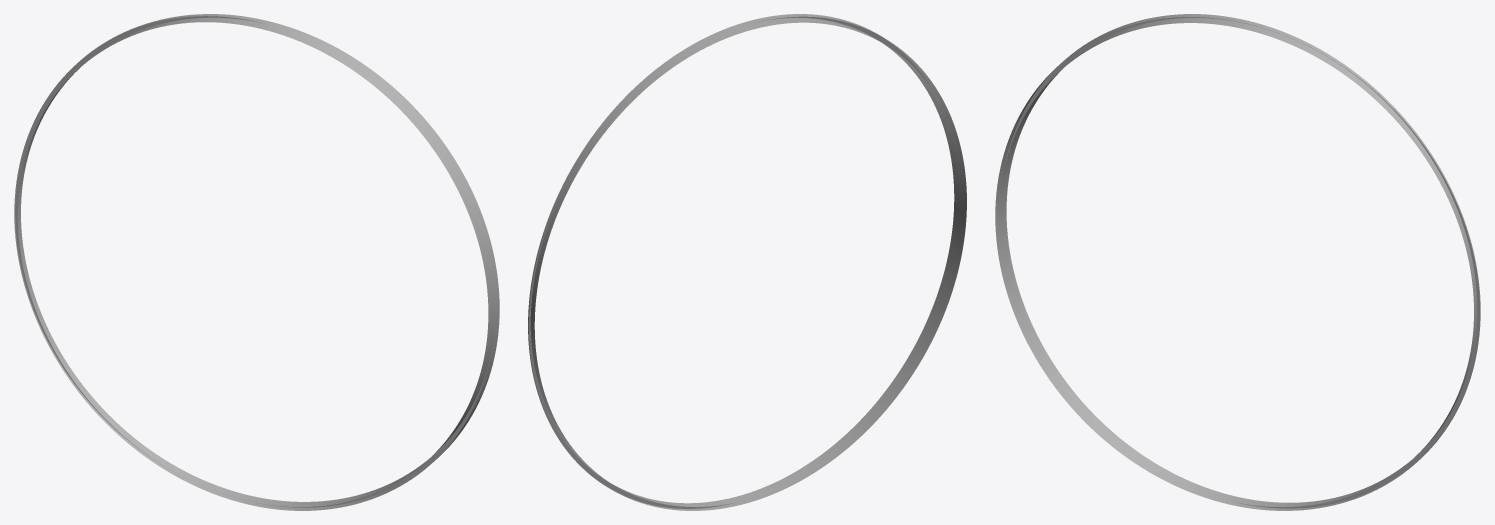
3 renders of one model, left to right at view 1: azimuth 90°, elevation 25°; view 2: azimuth 150°, elevation 25°; view 3: azimuth 270°, elevation 25°, orthographic.
Parts seen in each view (by area): view 1: circle8; view 2: circle8; view 3: circle8.
Part boxes in pixels (x1,y1,x2,y2): circle8: [14, 14, 499, 510]; circle8: [528, 14, 966, 510]; circle8: [995, 14, 1480, 510].
Size of the model in its own units: 113 by 254 by 231.
2 materials, 1 textured.
